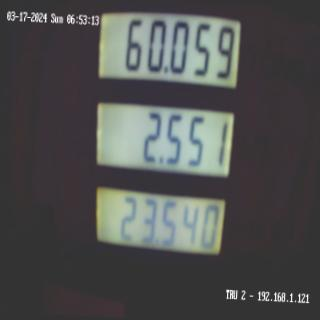screen: (84, 0, 249, 293)
